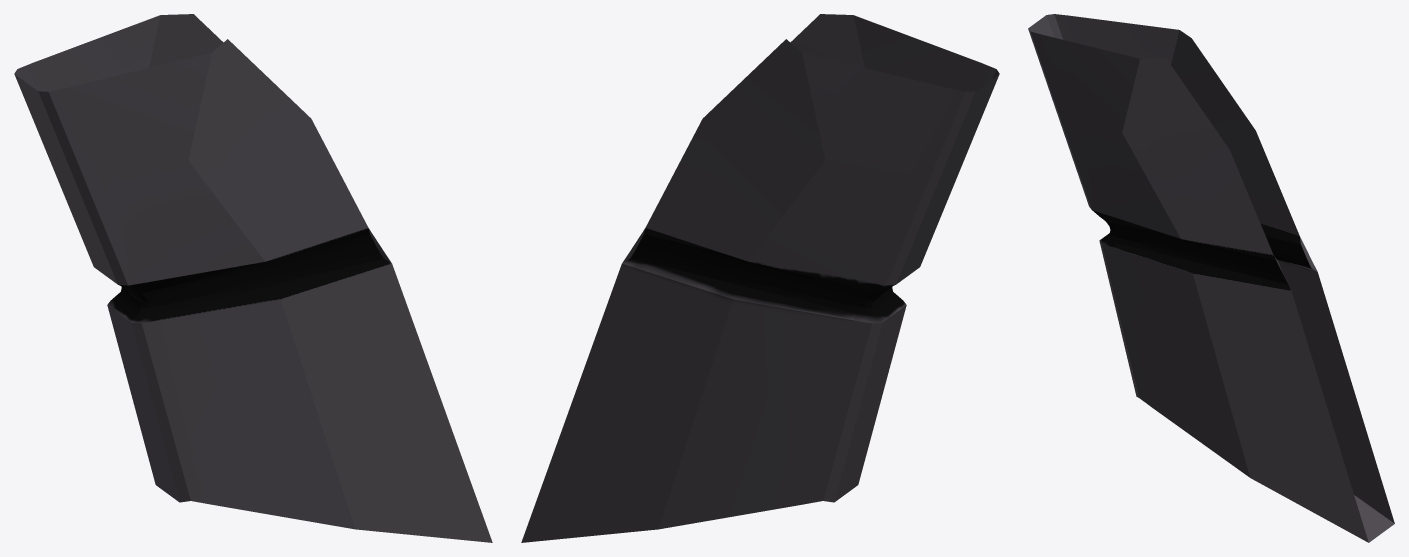
Rendered from shouba——02.fbx.
The picture shows the model from 3 angles, left to right: view 1: azimuth 30°, elevation 25°; view 2: azimuth 150°, elevation 25°; view 3: azimuth 330°, elevation 25°; orthographic projection. The views are drawn at different scales.
Visible parts, largest first — view 1: 平面.015; view 2: 平面.015; view 3: 平面.015.
Boxes of the visible parts, x1,y1,x2,y2 form: 平面.015: (14,14,492,542); 平面.015: (521,14,999,542); 平面.015: (1028,14,1394,542).
Size of the model in its own units: 37.87 by 45.78 by 7.51.
